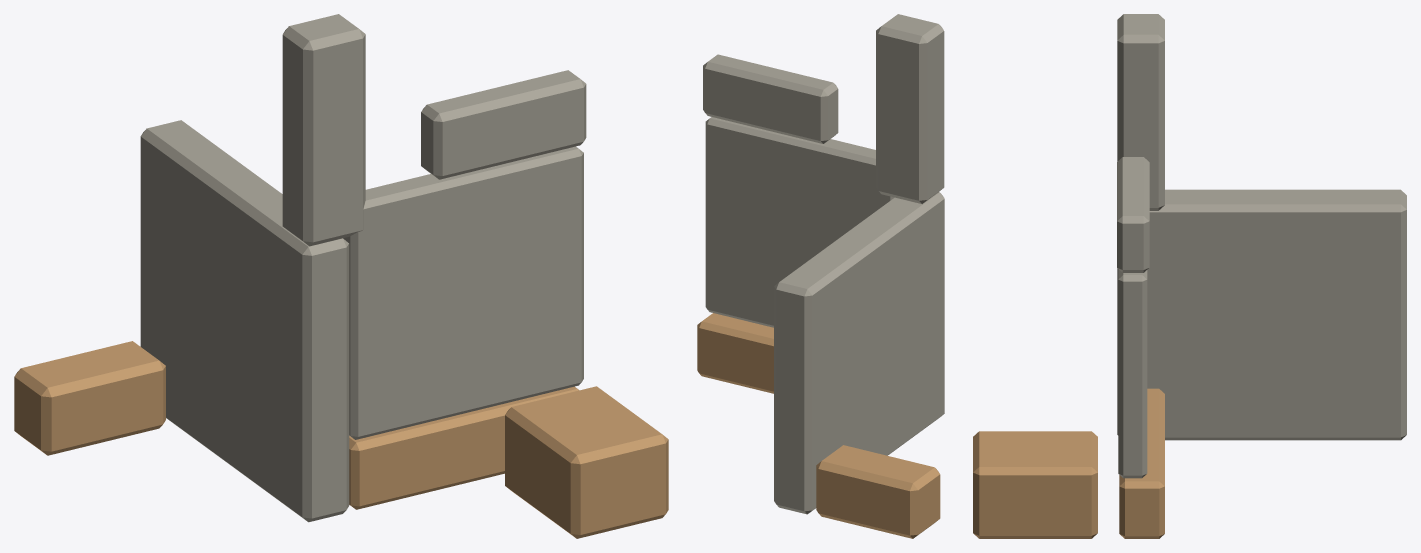
Rendered from ruin-wall-corner.glb.
The picture shows the model from 3 angles, left to right: view 1: azimuth 30°, elevation 25°; view 2: azimuth 150°, elevation 25°; view 3: azimuth 270°, elevation 25°; orthographic projection. The views are drawn at different scales.
Visible parts, largest first — view 1: ruin-wall-corner; view 2: ruin-wall-corner; view 3: ruin-wall-corner.
Boxes of the visible parts, x1,y1,x2,y2 form: ruin-wall-corner: (14, 14, 668, 538); ruin-wall-corner: (697, 14, 944, 538); ruin-wall-corner: (973, 14, 1406, 538).
Bounding box in the file's own units: 5 × 5.59 × 5.33.
Materials: 1 (1 with a texture image).
